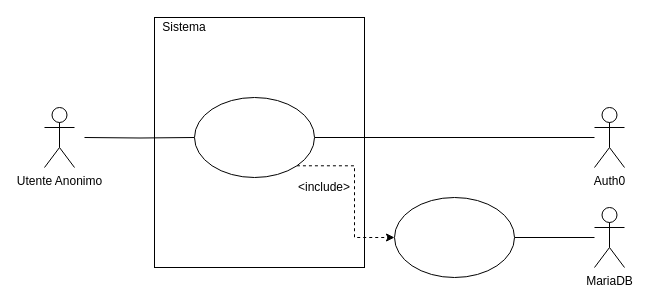
Some shapes in this 650 by 306 pixel diagram are drawn without their labels. Each missing label, with the centre of its shape:
"Registrazione" goes at (x=254, y=137).
"Salvataggio dati sul database" goes at (x=454, y=237).
